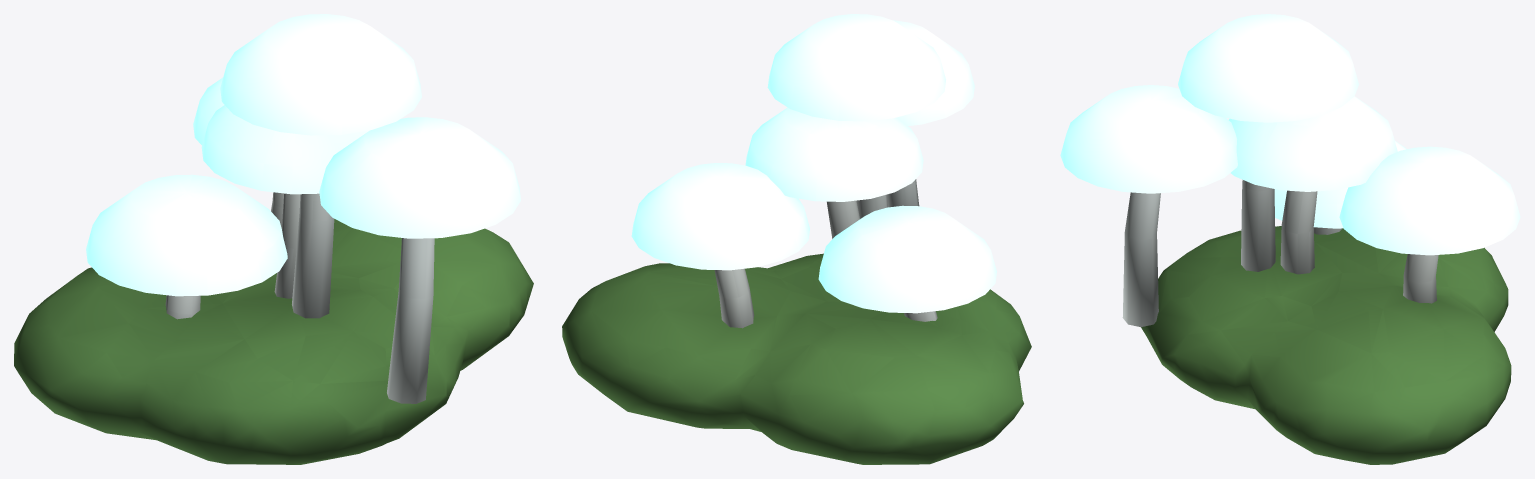
The model's file is grotto_glowcap.glb.
The picture shows the model from 3 angles, left to right: view 1: azimuth 30°, elevation 25°; view 2: azimuth 150°, elevation 25°; view 3: azimuth 270°, elevation 25°; orthographic projection. The views are drawn at different scales.
Parts seen in each view (by area): view 1: grotto_glowcap; view 2: grotto_glowcap; view 3: grotto_glowcap.
Boxes of the visible parts, x1,y1,x2,y2 form: grotto_glowcap: [14, 14, 533, 464]; grotto_glowcap: [562, 14, 1031, 464]; grotto_glowcap: [1060, 14, 1520, 464].
Size of the model in its own units: 2.46 by 1.99 by 2.29.
